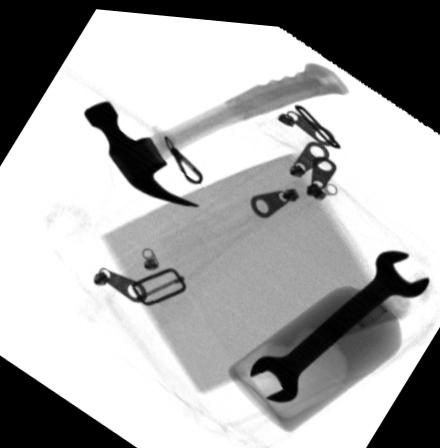Hammer: (82, 56, 349, 205)
Wrench: (248, 243, 430, 398)
